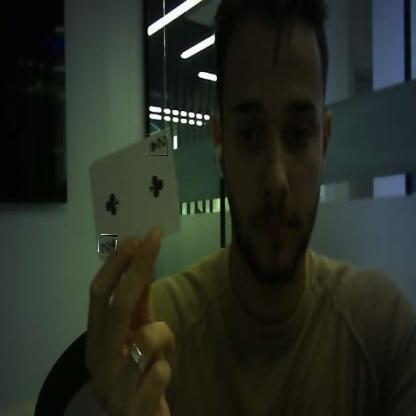2C: (146, 134, 168, 156), (99, 235, 117, 255)
